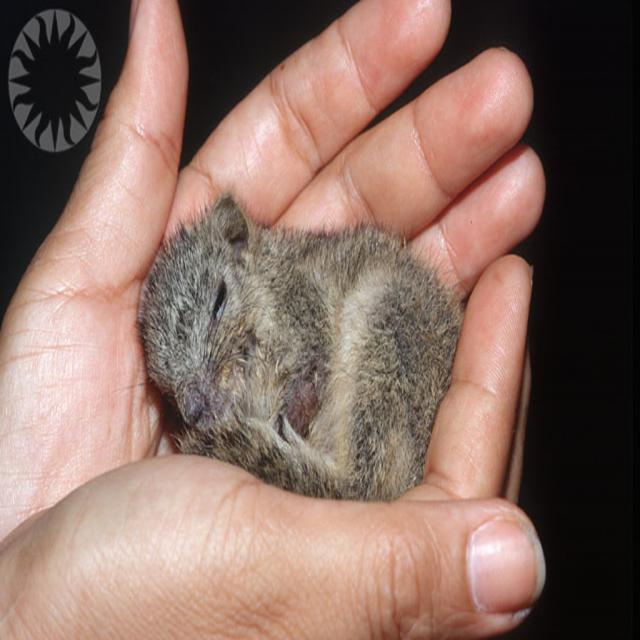rat: (133, 176, 506, 496)
